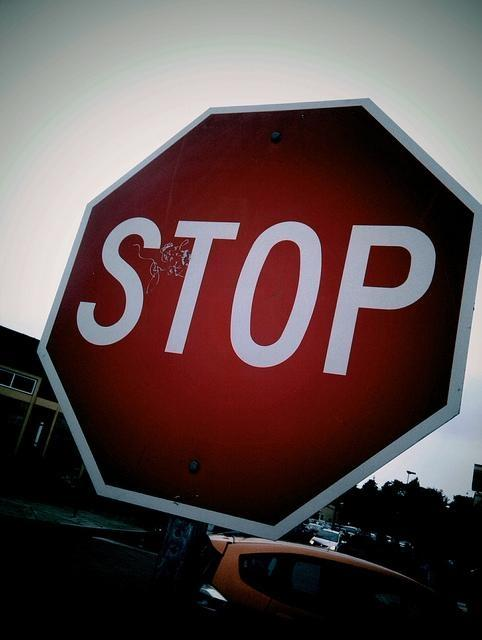car: (207, 536, 480, 638), (308, 528, 342, 550), (281, 524, 315, 544), (346, 528, 358, 538)
